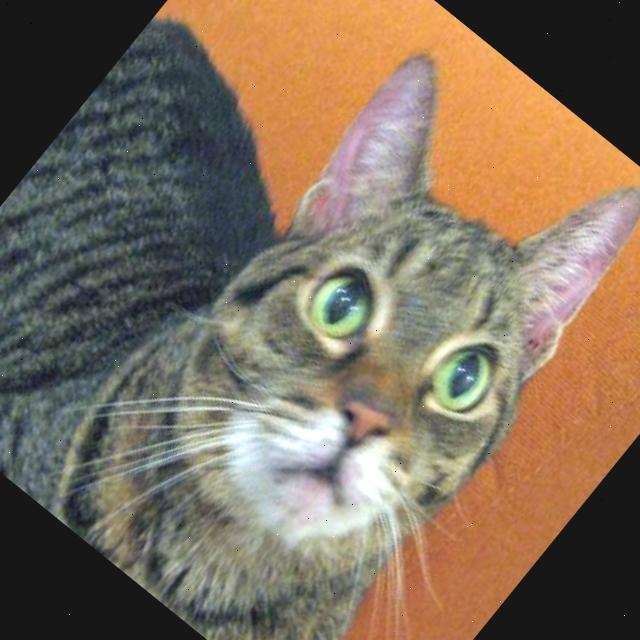cat-eye-normal: (404, 314, 530, 443), (278, 240, 400, 365)
